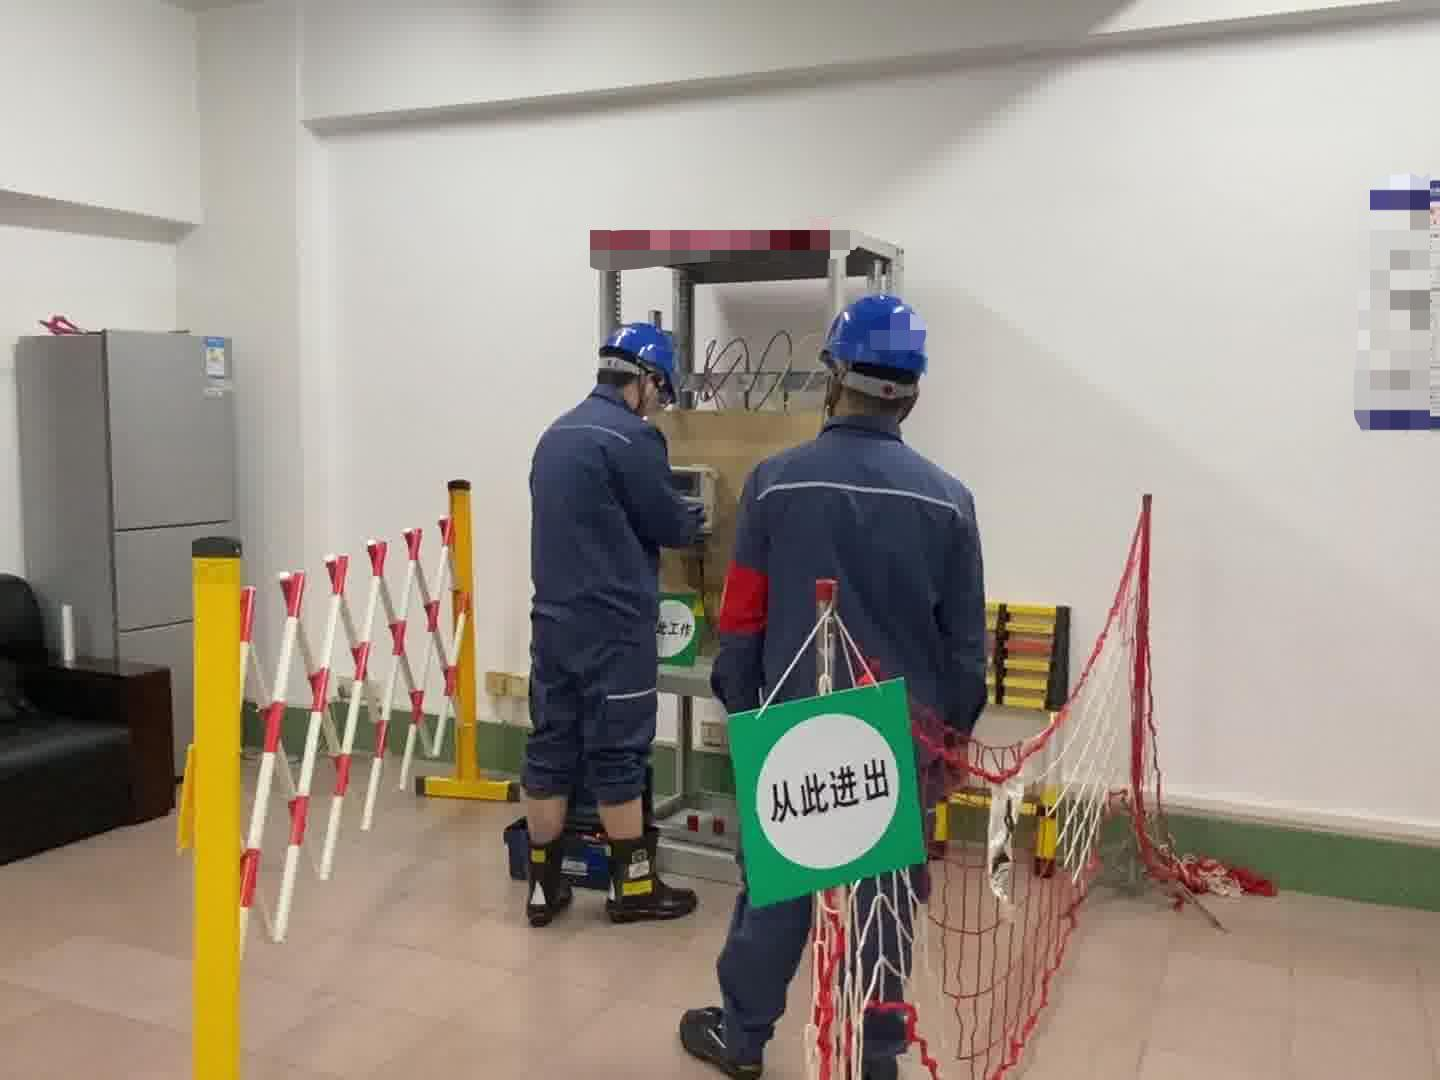halt: (825, 297, 933, 417), (601, 327, 681, 413)
inear: (634, 369, 663, 413)
